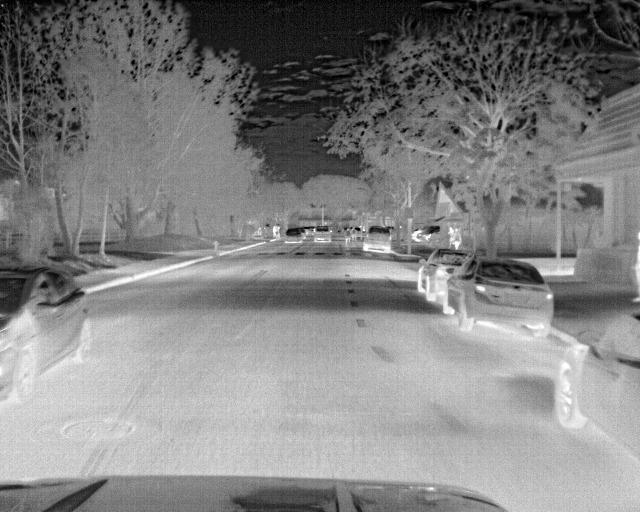car: (0, 268, 96, 418), (558, 292, 638, 460), (441, 258, 556, 334), (414, 250, 476, 304), (360, 225, 395, 254), (283, 226, 307, 244), (313, 225, 333, 245)
